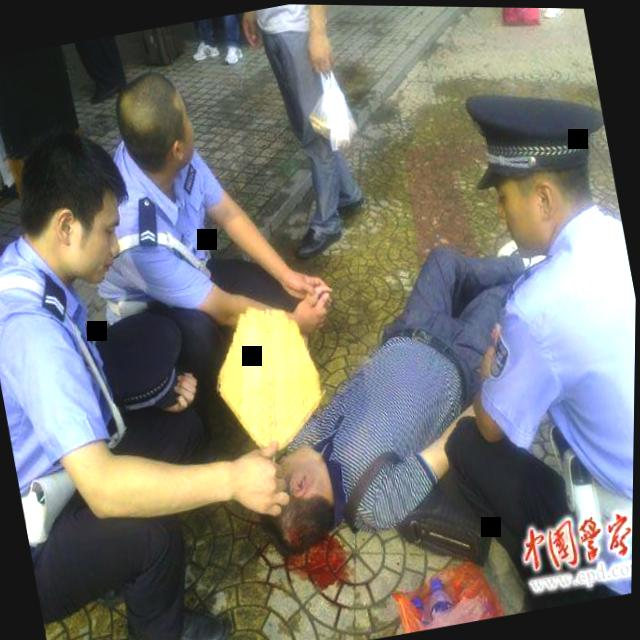Fall-Detected: (206, 188, 587, 575)
